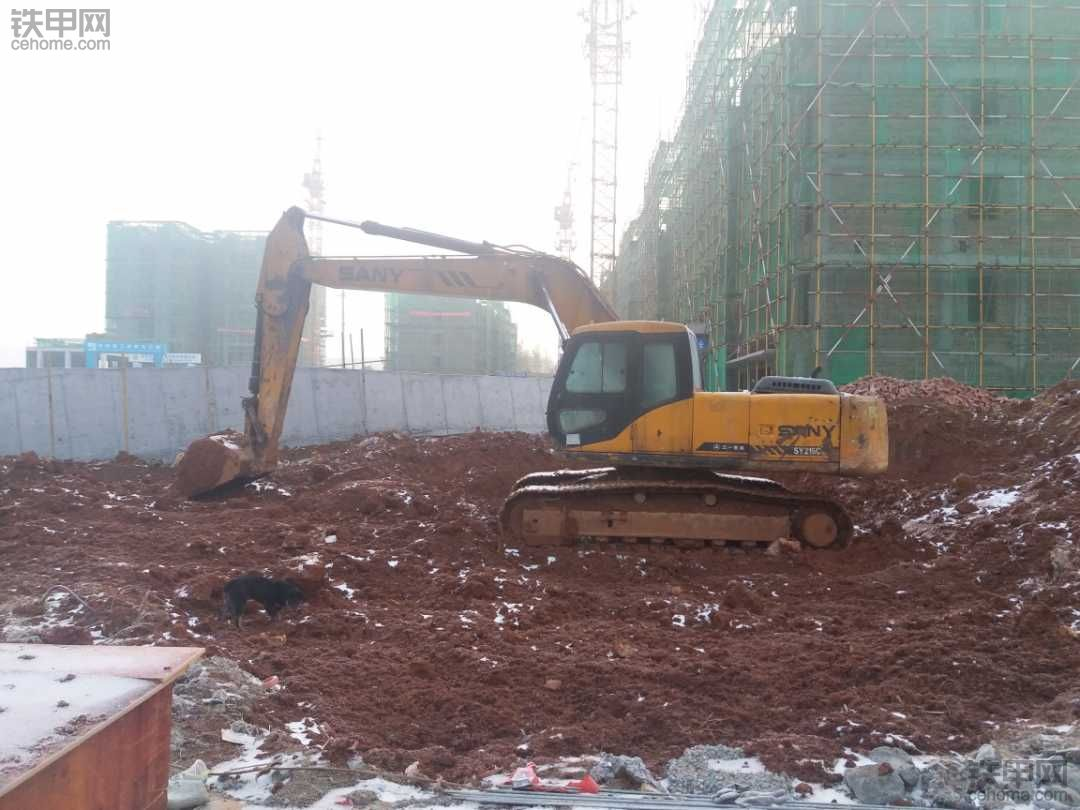excavator: (176, 186, 910, 576)
